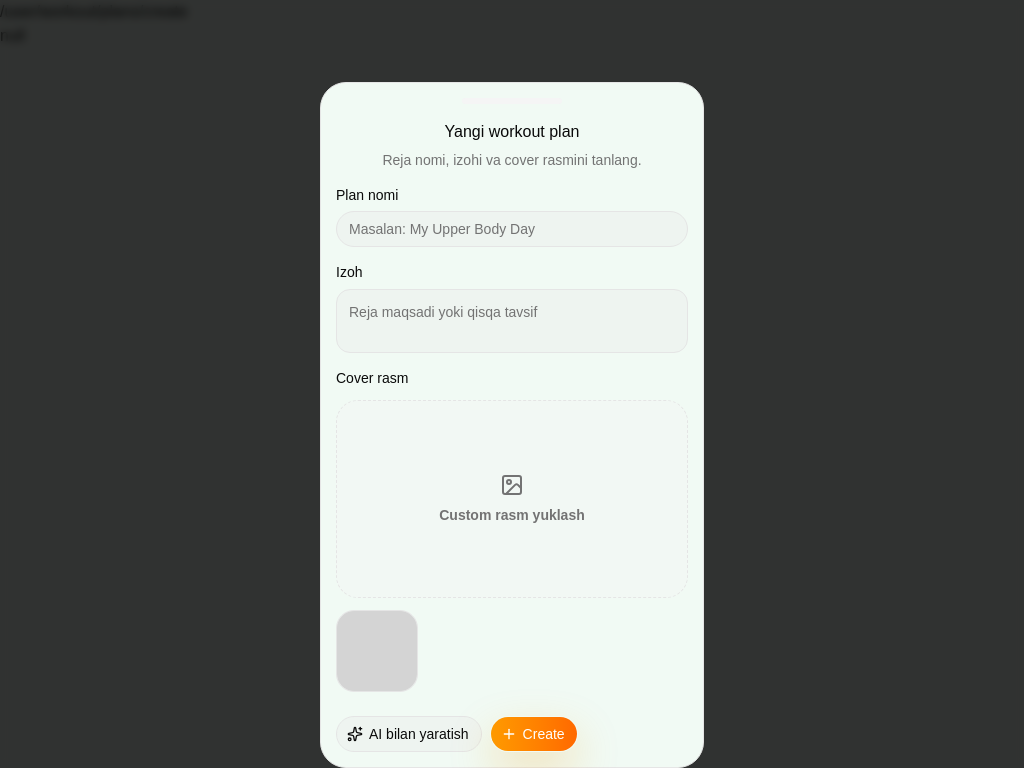
it: CreateWorkoutPlanPage › backs out of AI setup without generating a preview
Type "Manual fallback" into the field labelled "Plan nomi" at (512, 230), box [336,212,688,248]
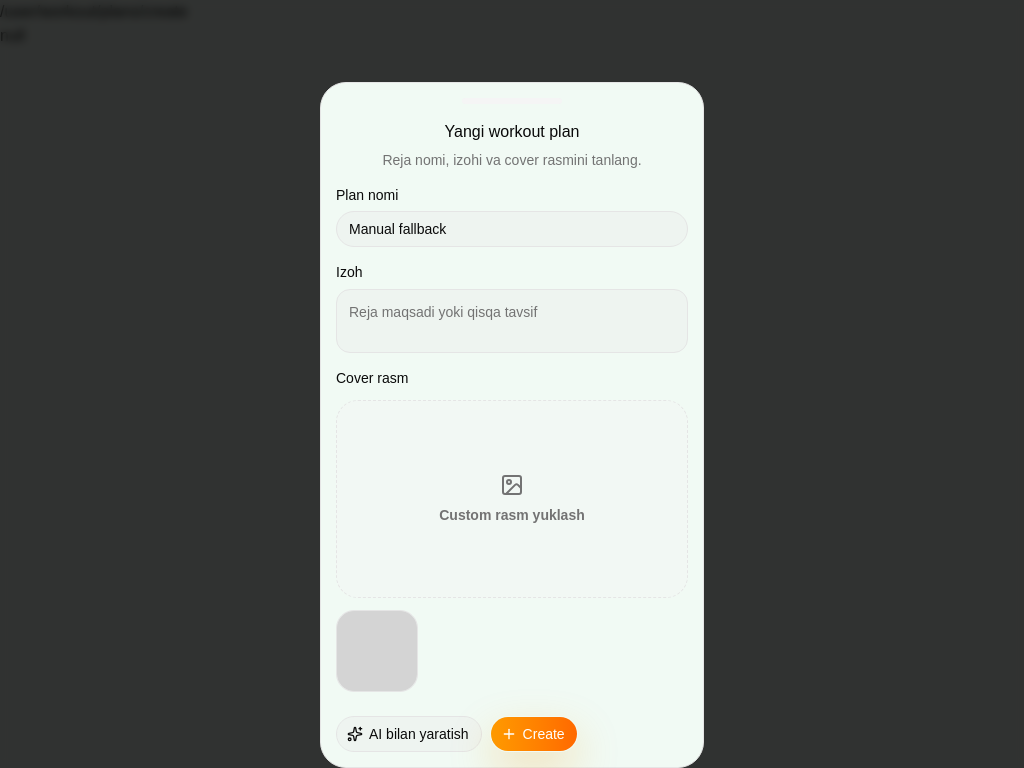
Click the button "AI bilan yaratish" at (409, 734), box [336,716,482,752]
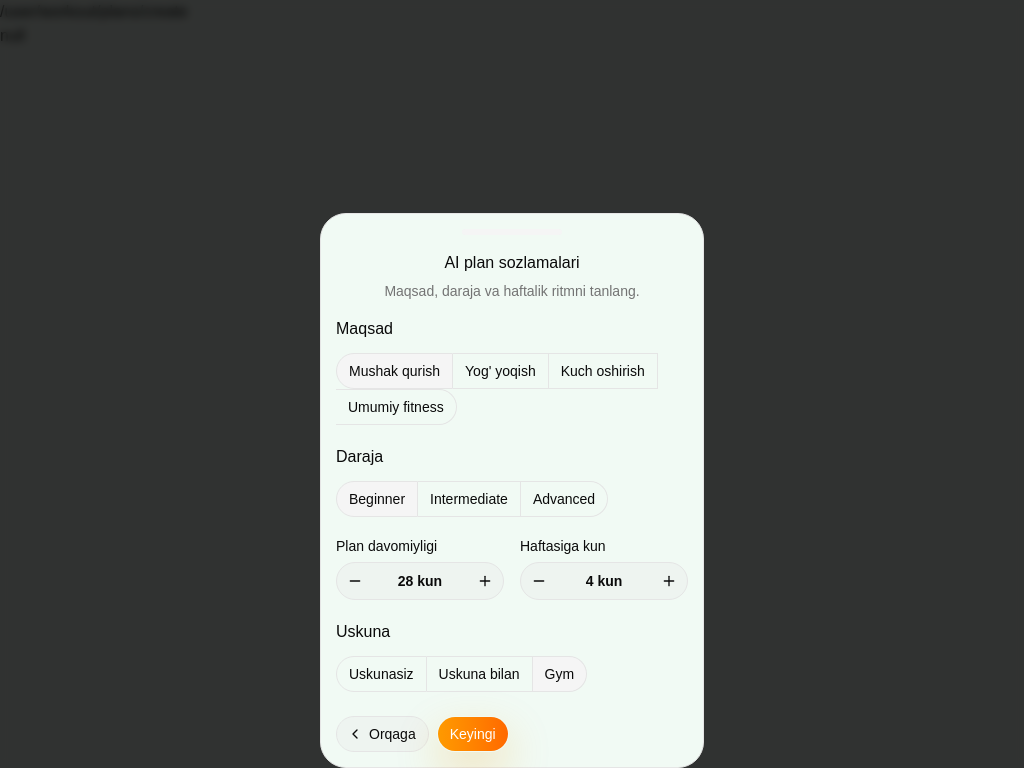
Click the button "Orqaga" at (382, 734), box [336,716,429,752]
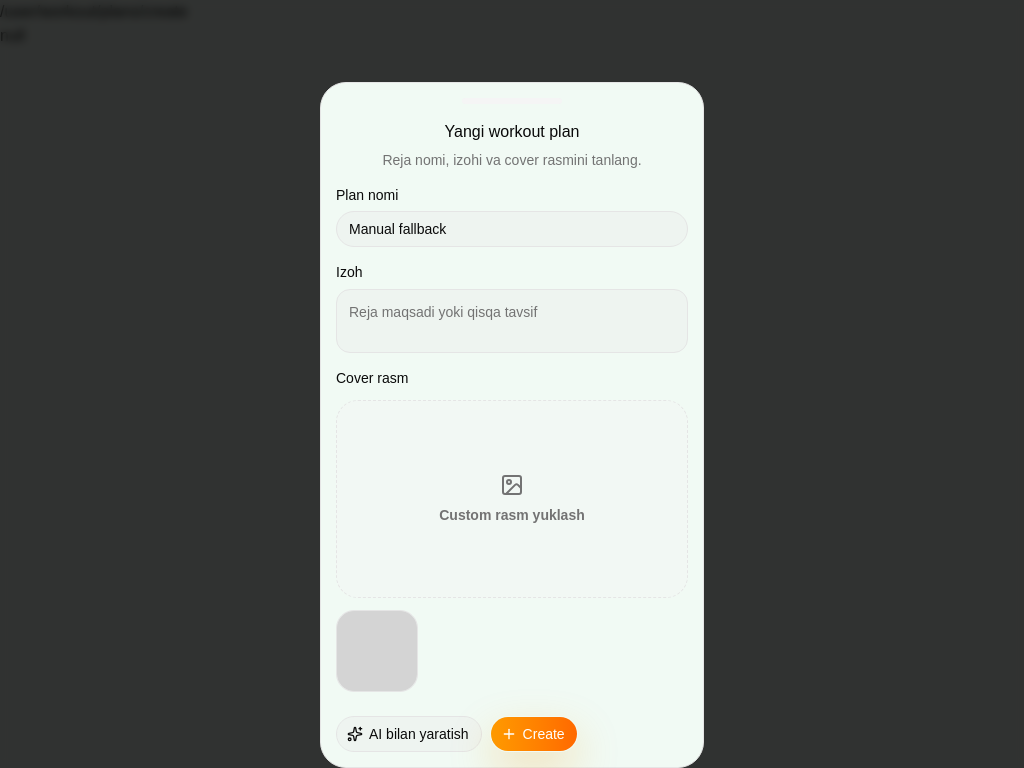
Check: the heading "Yangi workout plan" is shown, box [444,120,579,144]
Check: the field showing "Manual fallback" is shown, box [336,212,688,248]
